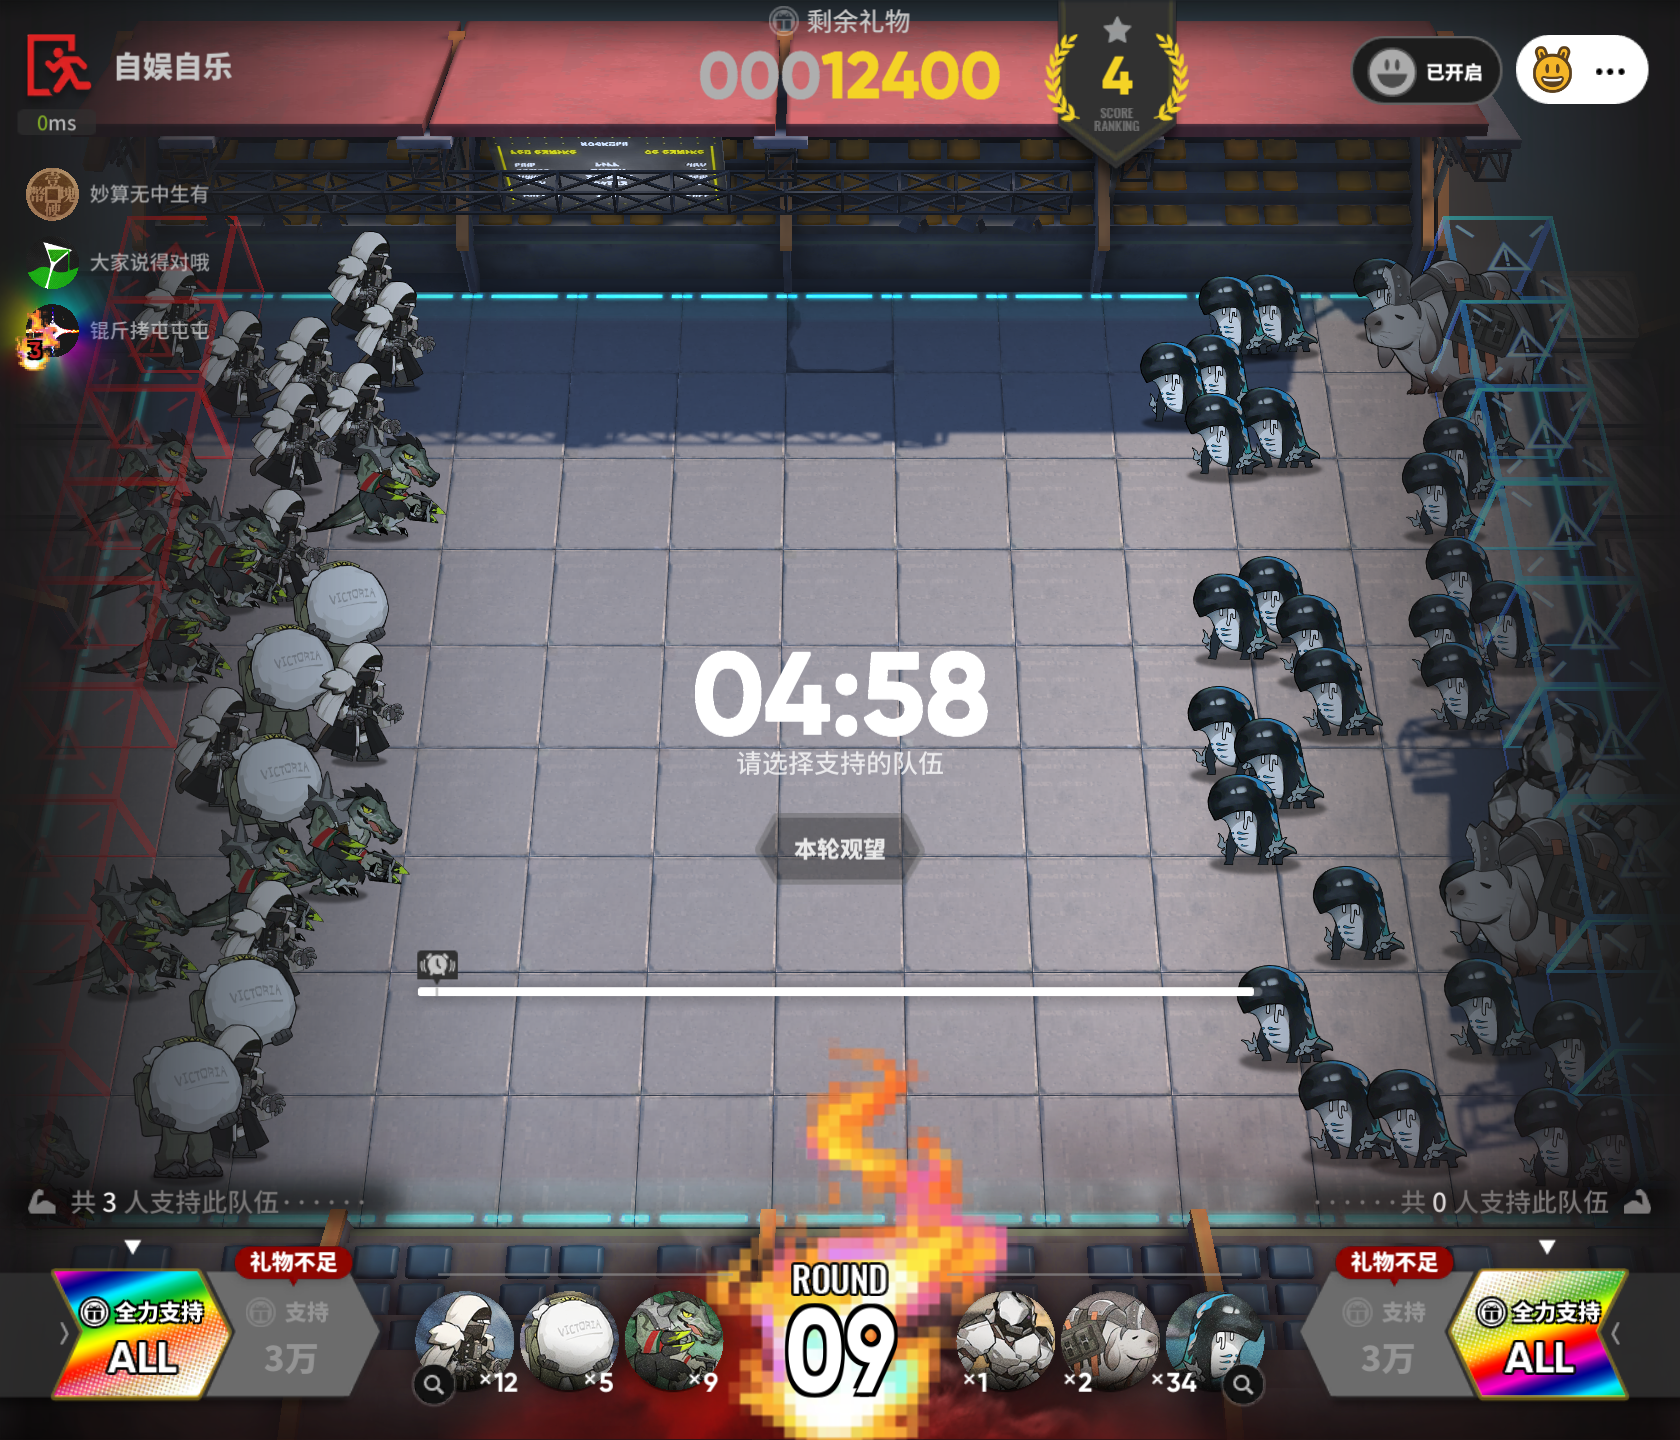冰手术师: (414, 1281, 529, 1407), (179, 679, 269, 819), (324, 634, 411, 774), (254, 480, 336, 621), (209, 1020, 287, 1166), (146, 251, 226, 381), (217, 880, 301, 1001), (330, 226, 414, 344), (250, 377, 330, 501), (364, 273, 447, 390), (324, 363, 401, 486), (263, 304, 336, 426), (201, 300, 273, 421)
安逸的驮兽: (1434, 820, 1654, 989), (1376, 249, 1563, 404), (1059, 1289, 1169, 1401)
巨大雪球投手: (133, 1030, 241, 1194), (179, 956, 314, 1067), (291, 551, 406, 683), (236, 617, 339, 749), (224, 734, 331, 849), (517, 1280, 621, 1394)
清醒的墨魉: (1164, 1291, 1266, 1394), (1364, 1069, 1466, 1169), (1234, 966, 1331, 1064), (1574, 1097, 1656, 1213), (1310, 864, 1404, 961), (1441, 959, 1531, 1057), (1414, 641, 1509, 731), (1233, 717, 1323, 809), (1206, 773, 1294, 866), (1291, 647, 1380, 737), (1296, 1060, 1374, 1160), (1469, 579, 1553, 669), (1530, 999, 1607, 1091), (1511, 1087, 1581, 1189), (1440, 374, 1524, 456), (1400, 451, 1480, 537), (1191, 571, 1266, 661), (1239, 386, 1319, 469), (1186, 684, 1254, 774), (1421, 416, 1493, 500), (1246, 274, 1317, 354), (1239, 554, 1303, 639), (1274, 593, 1346, 669), (1184, 391, 1249, 473), (1139, 341, 1201, 421), (1197, 274, 1257, 354), (1424, 536, 1491, 607), (1186, 333, 1247, 401), (1407, 593, 1477, 653), (1351, 257, 1411, 311)
砸人的石头: (1497, 710, 1670, 911), (954, 1280, 1066, 1401)
窃笑鳄鱼: (37, 869, 206, 1009), (96, 587, 250, 704), (297, 774, 414, 914), (314, 419, 439, 550), (84, 423, 207, 556), (199, 814, 326, 940), (161, 509, 293, 613), (0, 1110, 99, 1247), (106, 503, 230, 601), (624, 1280, 726, 1394)
